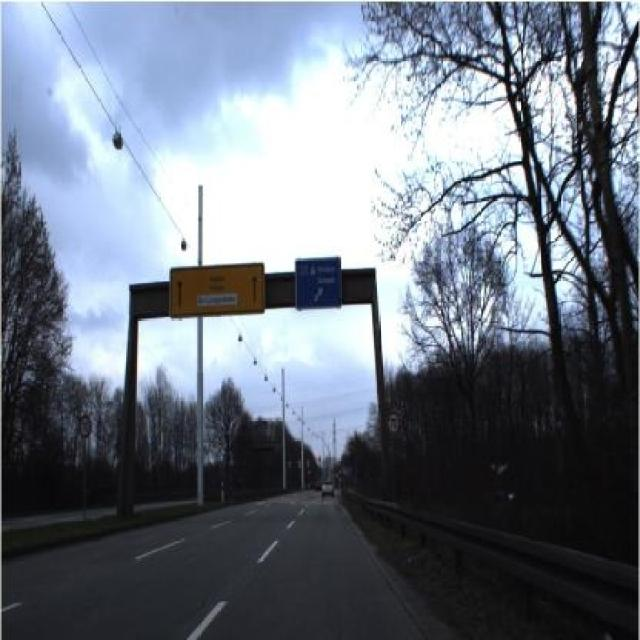forb_speed_over_70: (384, 407, 404, 439), (77, 412, 95, 441)
